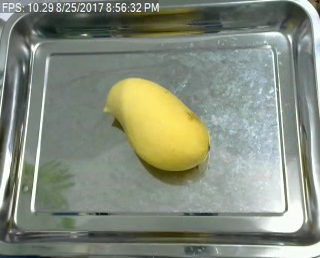Mango: (102, 77, 216, 173)
